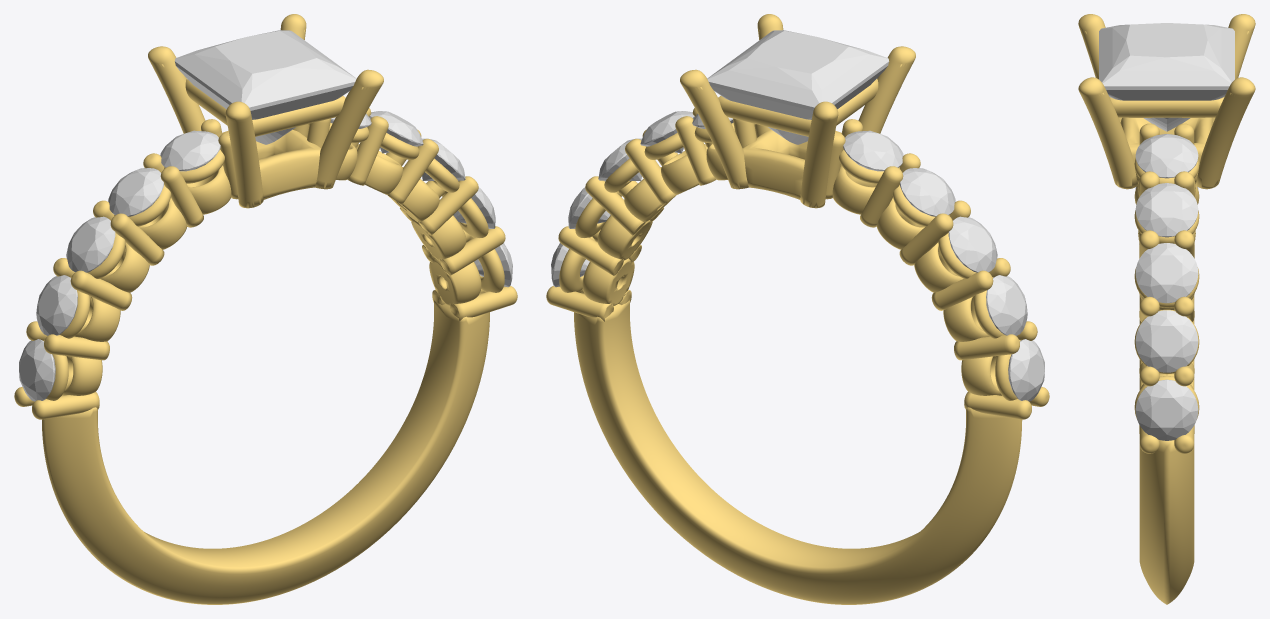
File: diamond-princess-yellowgold-4prong-knifeedge-11stone.glb
3 renders of one model, left to right at view 1: azimuth 30°, elevation 25°; view 2: azimuth 150°, elevation 25°; view 3: azimuth 270°, elevation 25°, orthographic.
Parts seen in each view (by area): view 1: metal, stone, side.002, side.003, side.001, side.004, side, side.008, side.007; view 2: metal, stone, side.002, side.003, side.001, side.004, side, side.008, side.007; view 3: metal, stone, side.006, side.005, side.007, side.008, side.009.
Part boxes in pixels (bbox=[...]): metal: bbox=[14, 14, 517, 604]; stone: bbox=[174, 30, 356, 144]; side.002: bbox=[66, 216, 115, 272]; side.003: bbox=[108, 168, 163, 216]; side.001: bbox=[36, 275, 77, 335]; side.004: bbox=[160, 130, 220, 171]; side: bbox=[19, 339, 55, 401]; side.008: bbox=[369, 111, 423, 153]; side.007: bbox=[422, 138, 465, 180]; metal: bbox=[546, 14, 1049, 604]; stone: bbox=[707, 30, 889, 144]; side.002: bbox=[948, 216, 997, 272]; side.003: bbox=[900, 168, 955, 216]; side.001: bbox=[986, 275, 1027, 335]; side.004: bbox=[843, 130, 903, 171]; side: bbox=[1008, 339, 1044, 401]; side.008: bbox=[640, 111, 694, 153]; side.007: bbox=[598, 138, 641, 180]; metal: bbox=[1078, 14, 1255, 604]; stone: bbox=[1099, 23, 1234, 131]; side.006: bbox=[1135, 310, 1198, 372]; side.005: bbox=[1135, 379, 1198, 440]; side.007: bbox=[1135, 243, 1198, 303]; side.008: bbox=[1135, 183, 1198, 237]; side.009: bbox=[1135, 134, 1198, 178].
Size of the model in its own units: 22 by 23.85 by 7.08.
